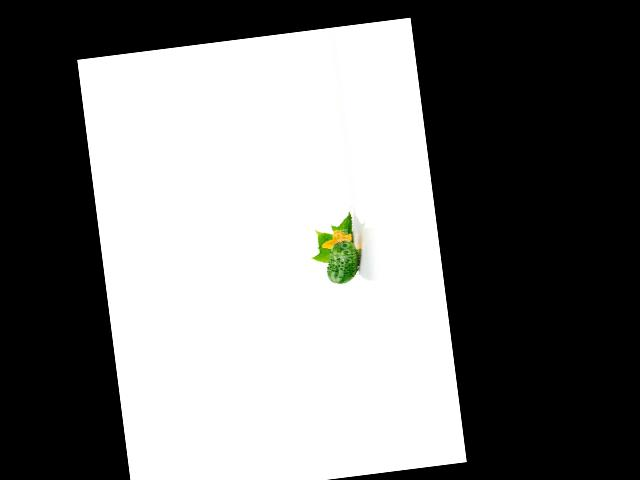cucumber: (323, 240, 362, 285)
